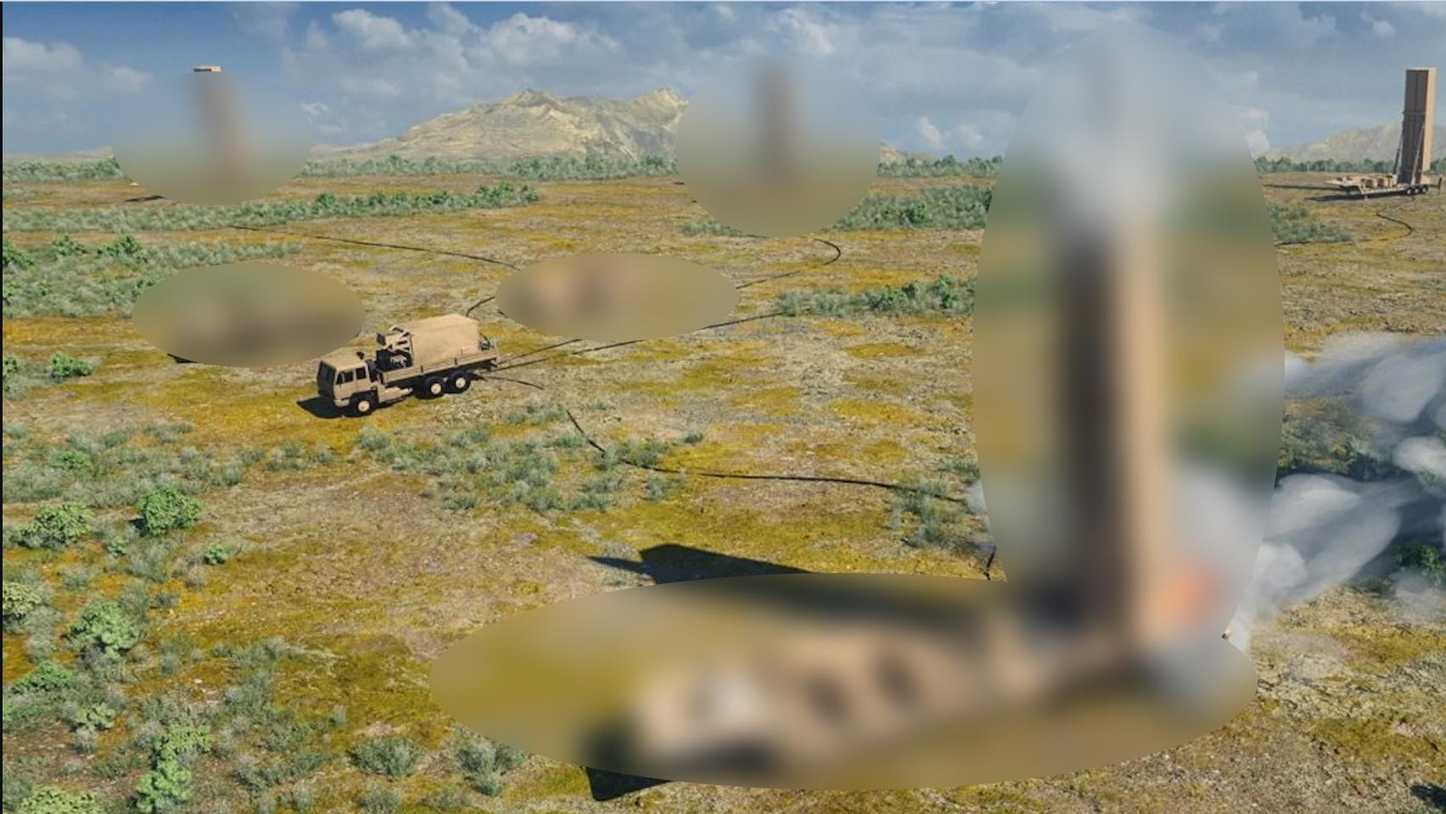truck: (302, 314, 501, 418)
